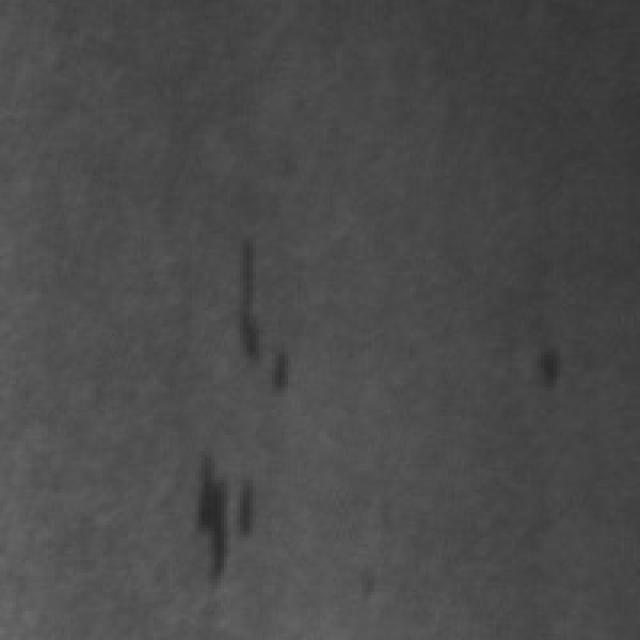inclusion: (211, 227, 291, 397), (182, 445, 260, 592), (522, 326, 570, 400)
